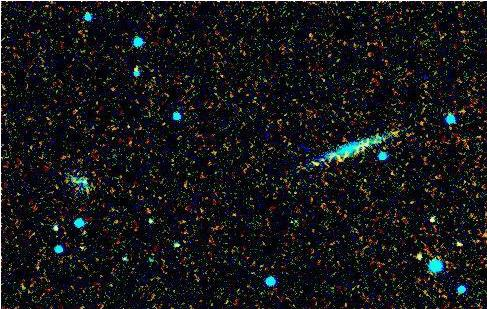star: (304, 146, 334, 176)
